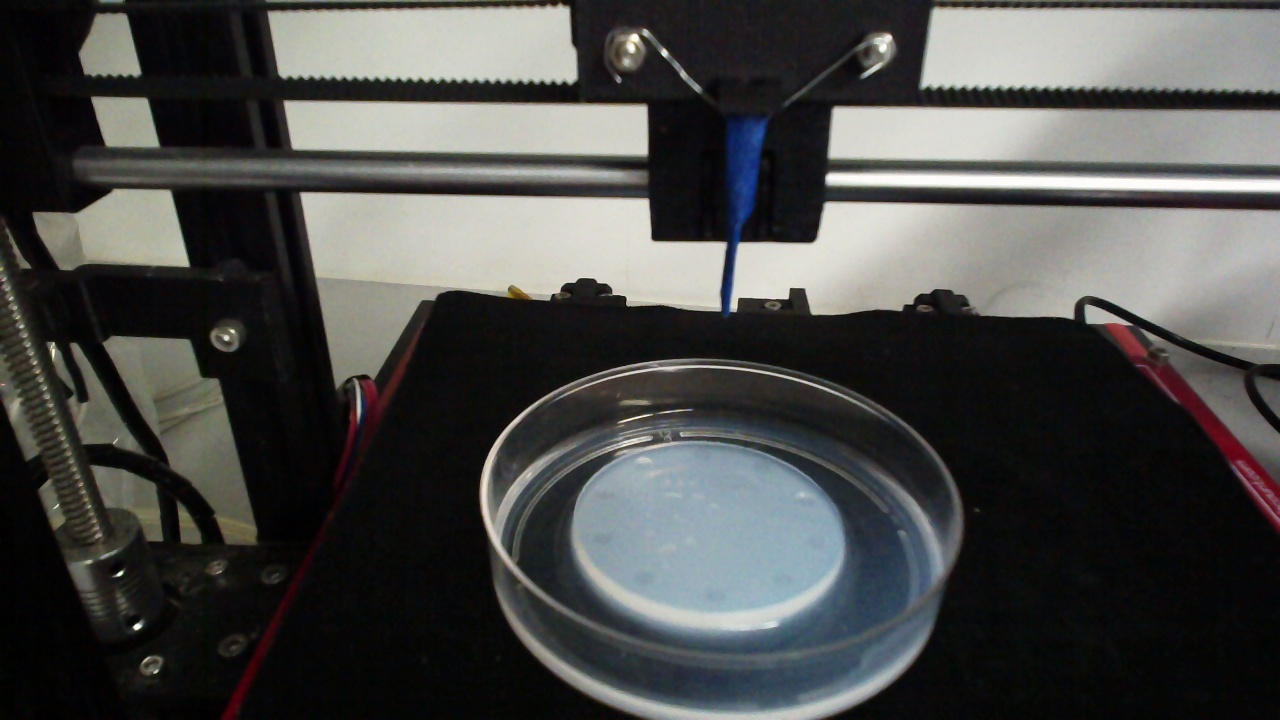groove: (792, 492, 818, 509), (631, 569, 654, 588), (750, 458, 773, 476), (703, 588, 728, 604), (771, 572, 794, 589), (805, 532, 825, 550), (690, 447, 711, 463), (590, 531, 611, 546), (593, 486, 612, 501), (633, 457, 652, 471)
needle: (718, 118, 766, 316)
